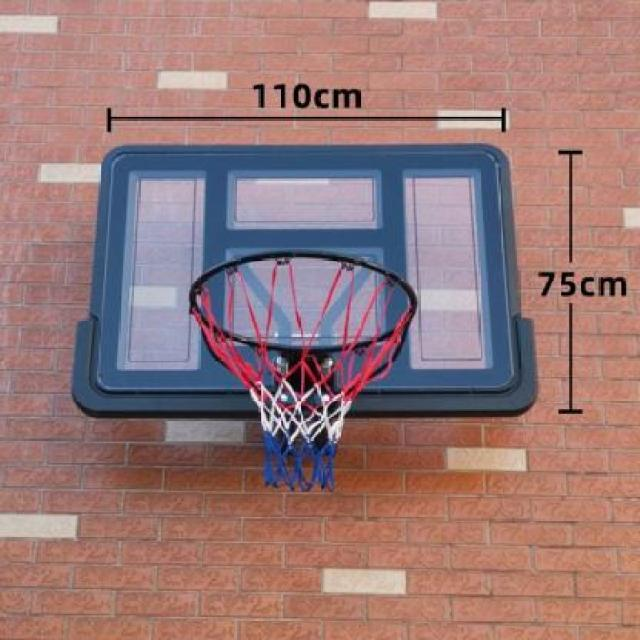rim: (190, 249, 418, 495)
